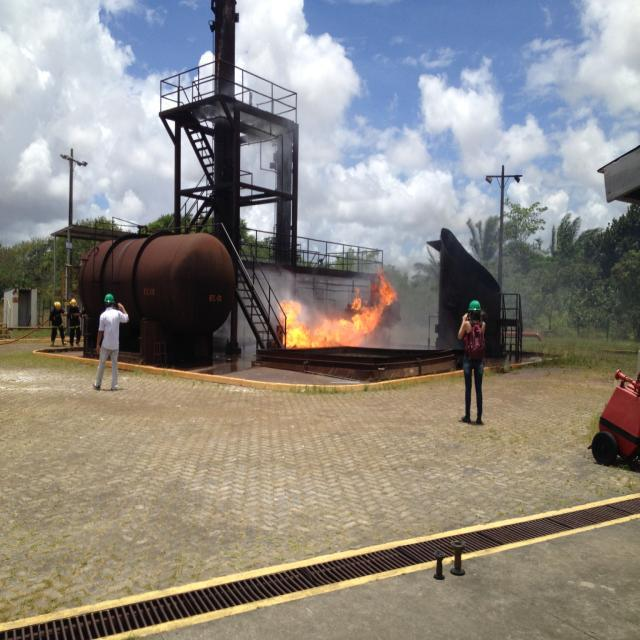Fire: (277, 268, 398, 349)
